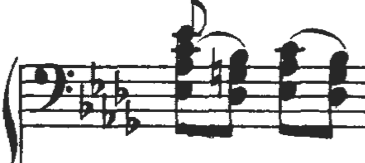bass_clef: (26, 56, 77, 116)
flat: (109, 59, 134, 112), (121, 97, 146, 147), (86, 57, 111, 97), (75, 78, 98, 121), (98, 92, 120, 133)
